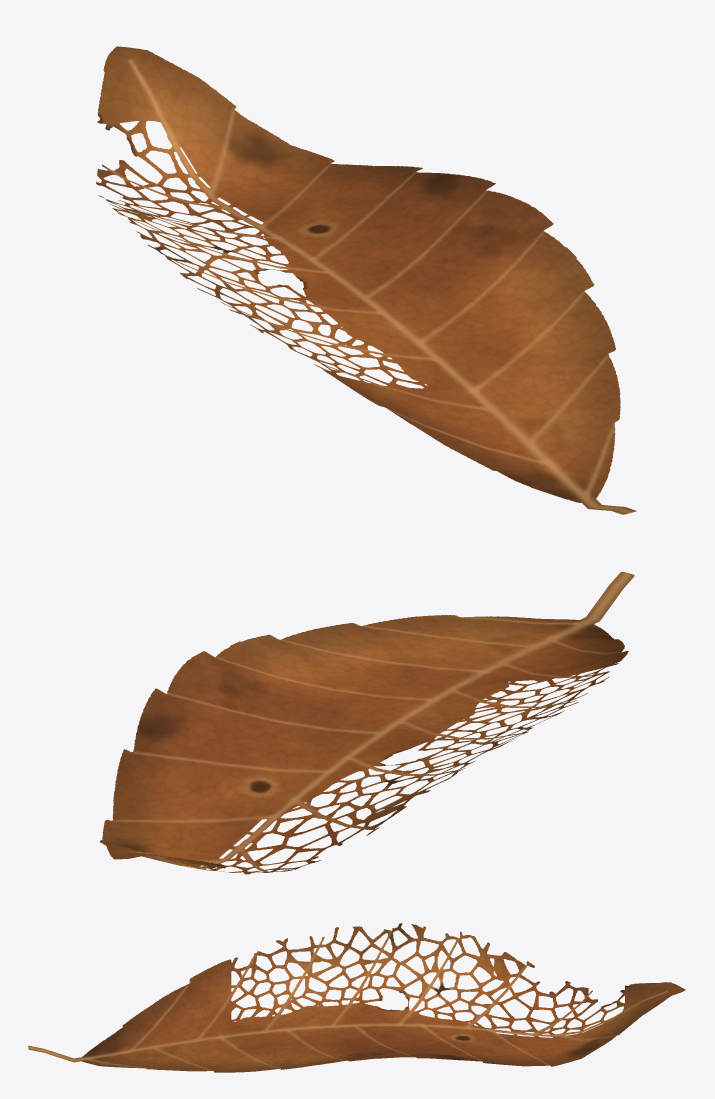
Rendered from Litter_Beech.gltf.
3 renders of one model, top to bottom at view 1: azimuth 30°, elevation 25°; view 2: azimuth 150°, elevation 25°; view 3: azimuth 270°, elevation 25°, orthographic. The views are drawn at different scales.
Visible parts, largest first — view 1: Litter_Beech; view 2: Litter_Beech; view 3: Litter_Beech.
Part boxes in pixels (x1,y1,x2,y2): Litter_Beech: [96, 46, 636, 514]; Litter_Beech: [100, 572, 634, 874]; Litter_Beech: [28, 923, 685, 1072].
Bounding box in the file's own units: 0.42 × 0.1405 × 0.9625.
1 material, 1 textured.
